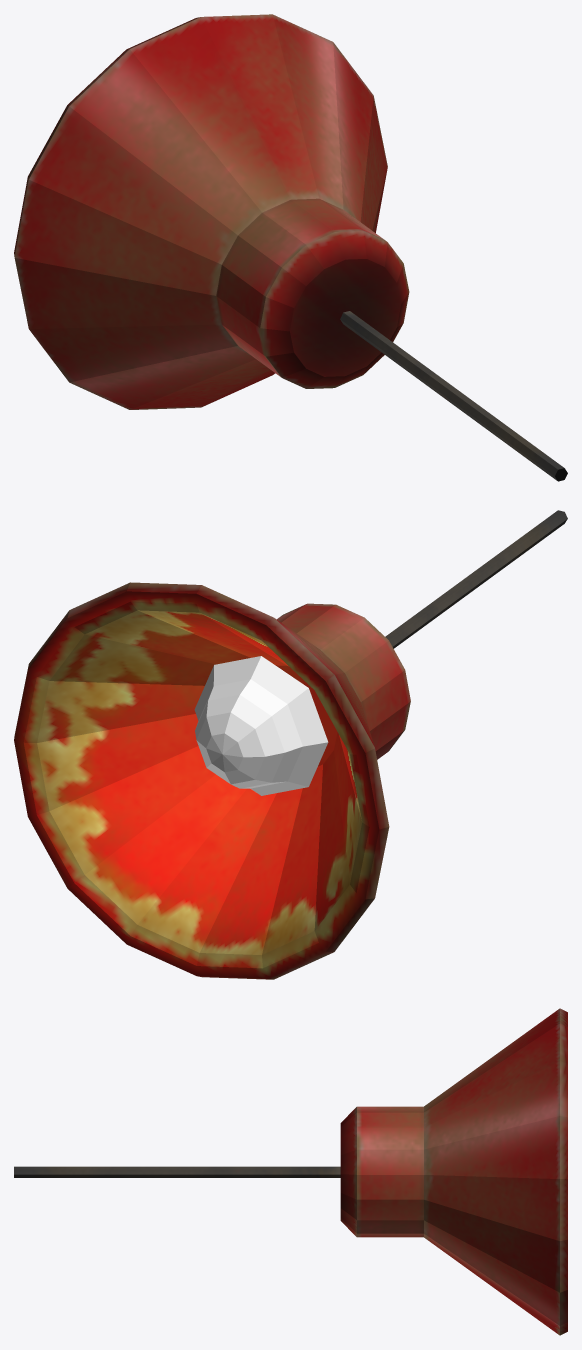
File: lampe2.obj
3 views of the same model, one above another, from view 1: azimuth 30°, elevation 25°; view 2: azimuth 150°, elevation 25°; view 3: azimuth 270°, elevation 25° (orthographic). The views are drawn at different scales.
Size of the model in its own units: 1.83 by 1.83 by 3.09.
